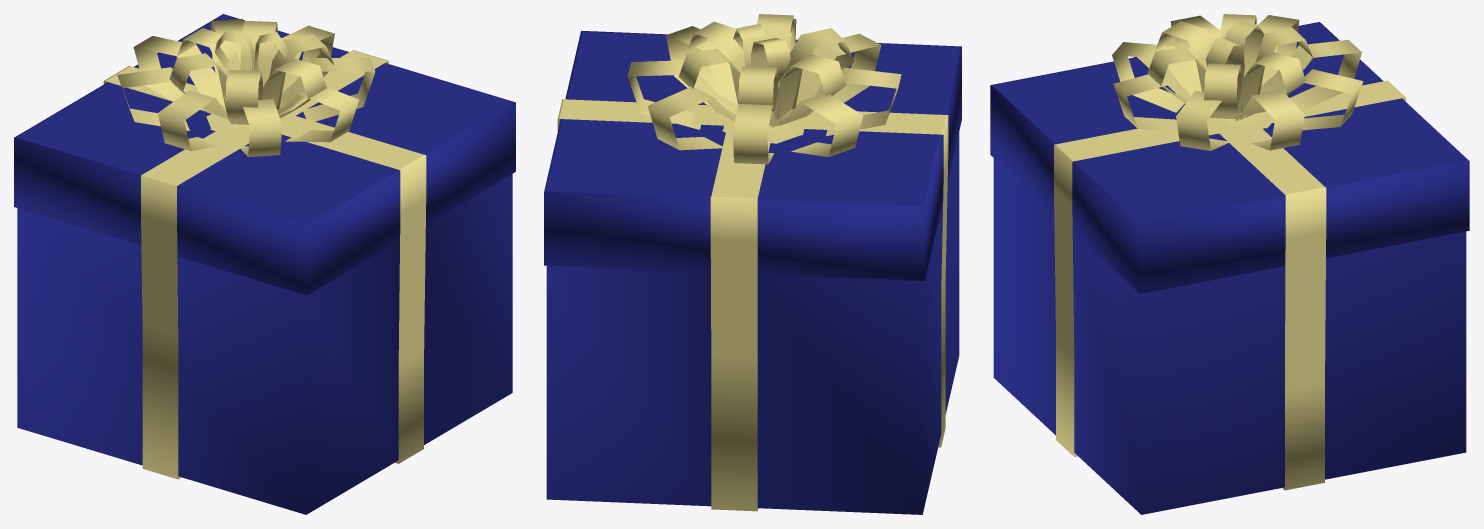
File: giftbox2.glb
The picture shows the model from 3 angles, left to right: view 1: azimuth 30°, elevation 25°; view 2: azimuth 150°, elevation 25°; view 3: azimuth 270°, elevation 25°; orthographic projection. The views are drawn at different scales.
Parts seen in each view (by area): view 1: Куб.002, Куб.003, Плоскость.002; view 2: Куб.002, Плоскость.002, Куб.003; view 3: Куб.002, Куб.003, Плоскость.002.
Part boxes in pixels (x1,y1,x2,y2): Куб.002: [14, 14, 515, 514]; Куб.003: [103, 50, 426, 479]; Плоскость.002: [117, 18, 375, 157]; Куб.002: [544, 30, 961, 514]; Плоскость.002: [627, 14, 901, 164]; Куб.003: [557, 99, 948, 511]; Куб.002: [990, 22, 1469, 514]; Куб.003: [1054, 57, 1405, 490]; Плоскость.002: [1112, 14, 1363, 150].
Bounding box in the file's own units: 0.4942 × 0.4329 × 0.4942.
